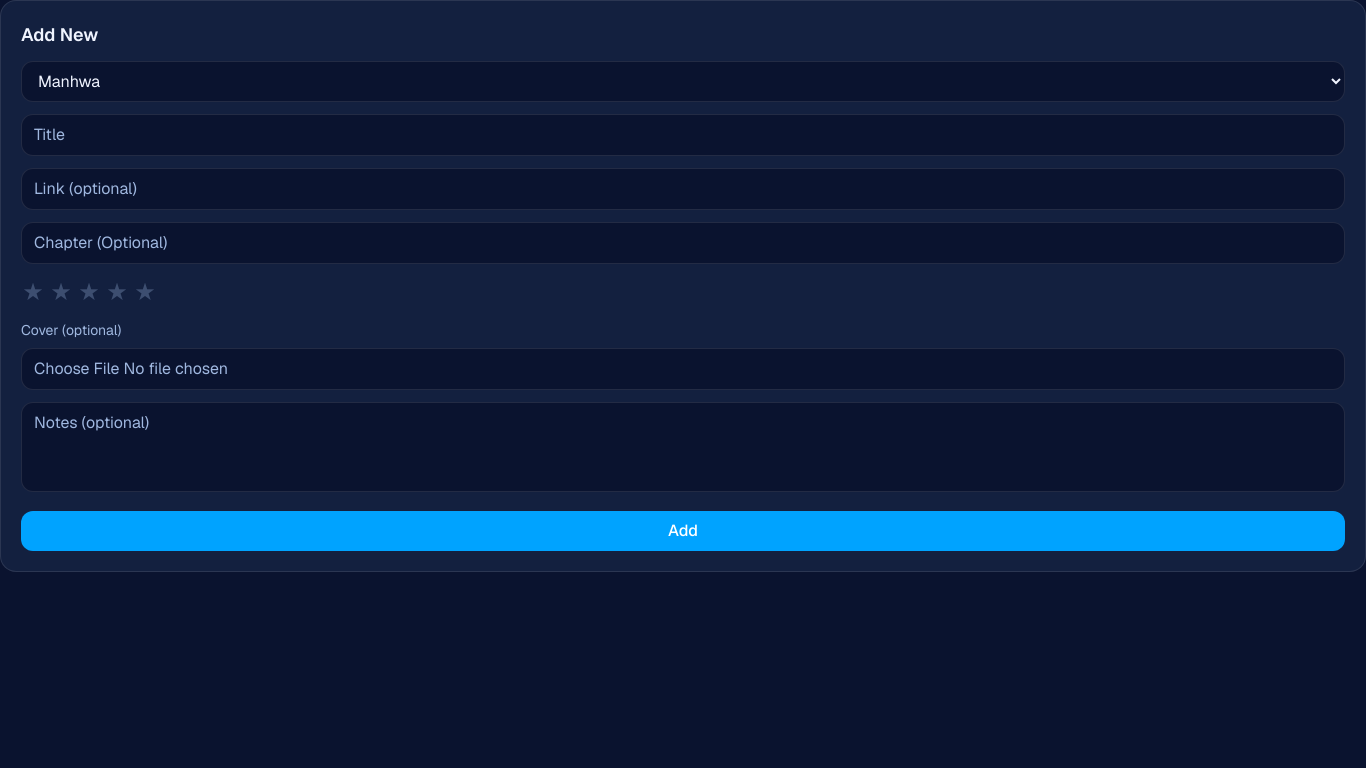
Test: AddReadingForm › shows "Episode" label when type is changed to anime
Select "Anime" in the dropdown at [683, 82], box [21,61,1345,102]
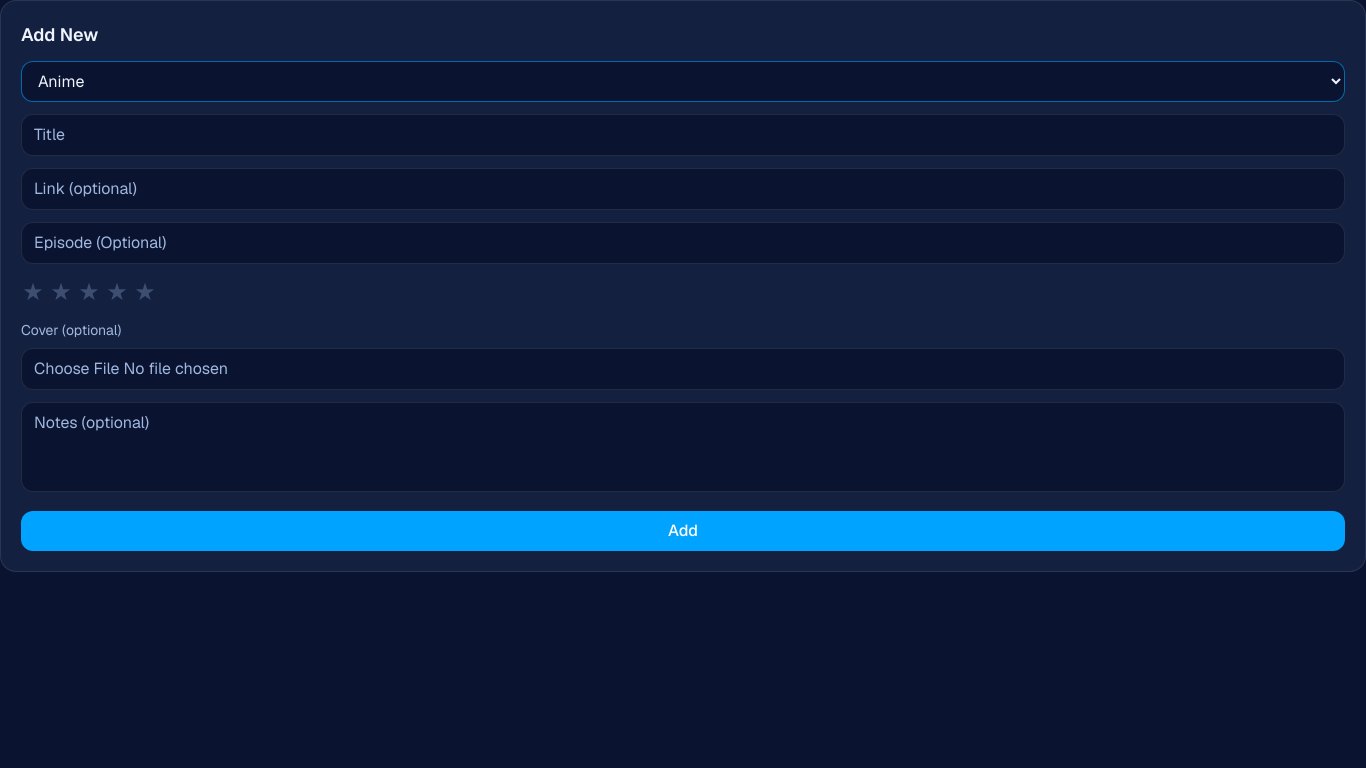
Expected: the number field with placeholder "Episode (Optional)" is shown, [21,222,1345,264]
